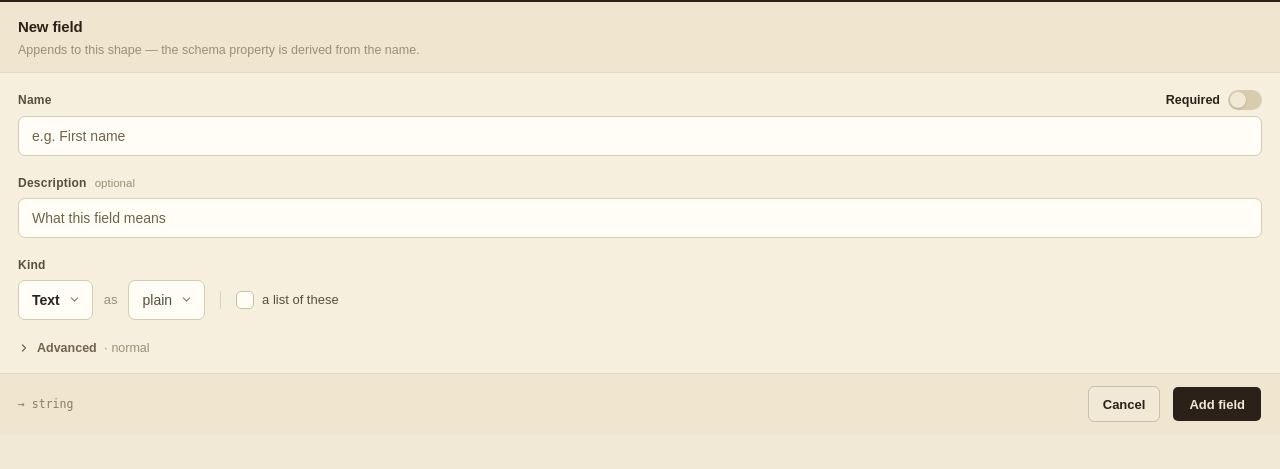
Scenario: offers visibility as a single choice of three
The width and height of the screenshot is (1280, 469).
Click the button "Advanced · normal" at x=84, y=348, box [18,339,150,357]
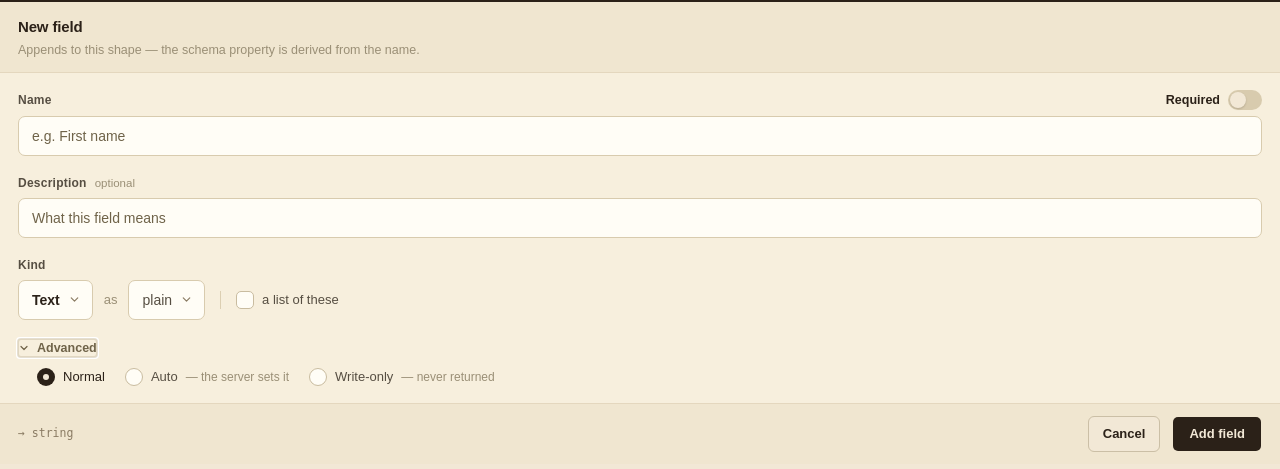
Expected: the number of radio buttons is 3
Click the radio button labelled "Auto — the server sets it" at x=207, y=377, box [125,367,289,387]
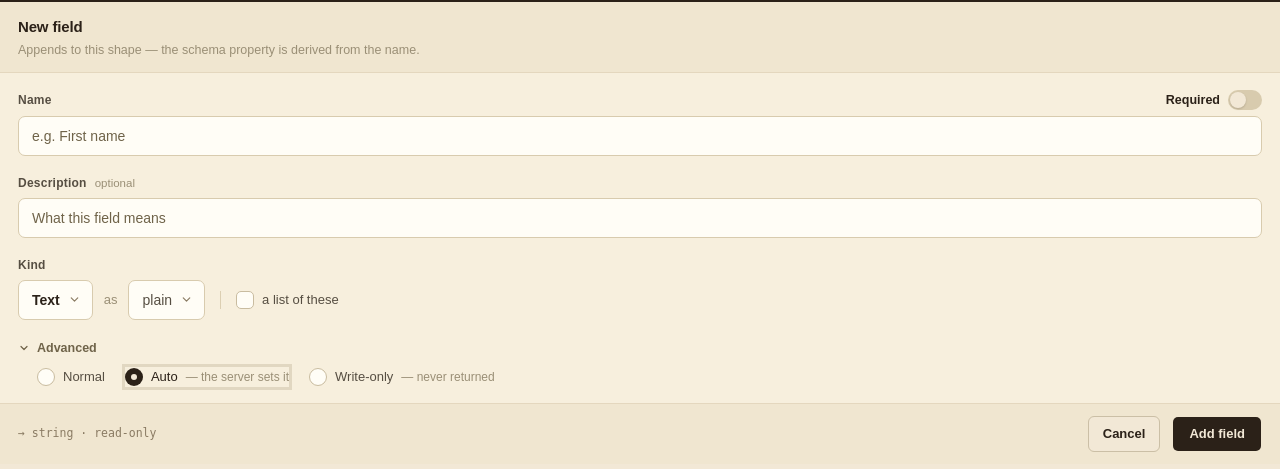
Expected: the text "→ string · read-only" is shown, [18,425,156,442]
